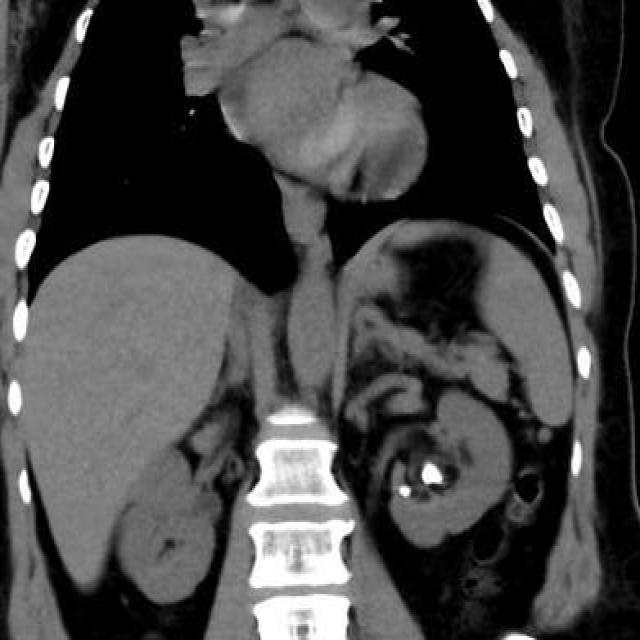Tas_Var: (420, 460, 448, 488), (398, 482, 411, 504)
